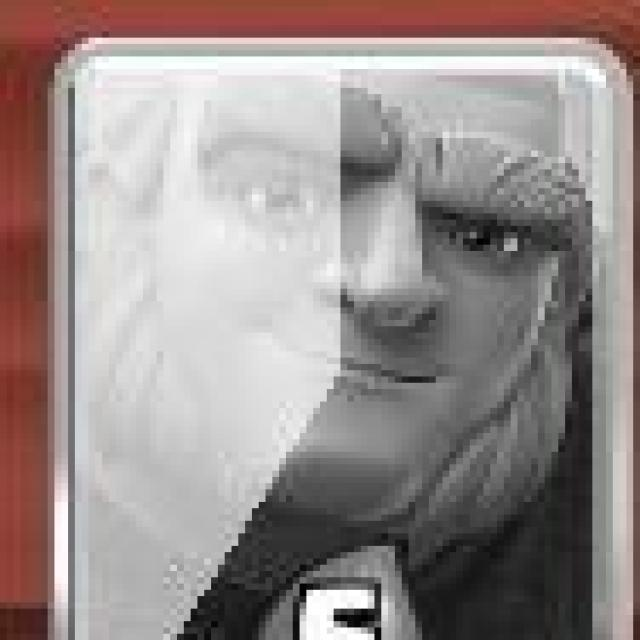Giant: (57, 42, 632, 640)
